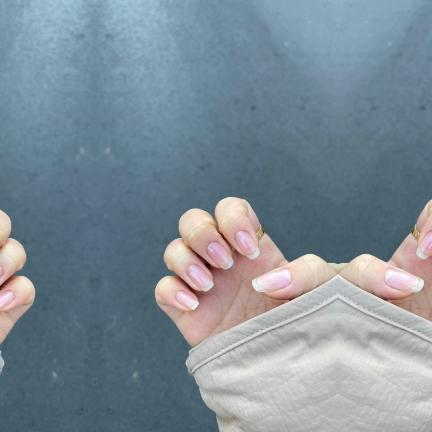Nail: (251, 268, 291, 292), (383, 268, 423, 292), (186, 264, 213, 292), (206, 241, 232, 270), (234, 230, 259, 259), (415, 230, 432, 259), (174, 290, 198, 310), (0, 290, 14, 309), (0, 267, 2, 277)
